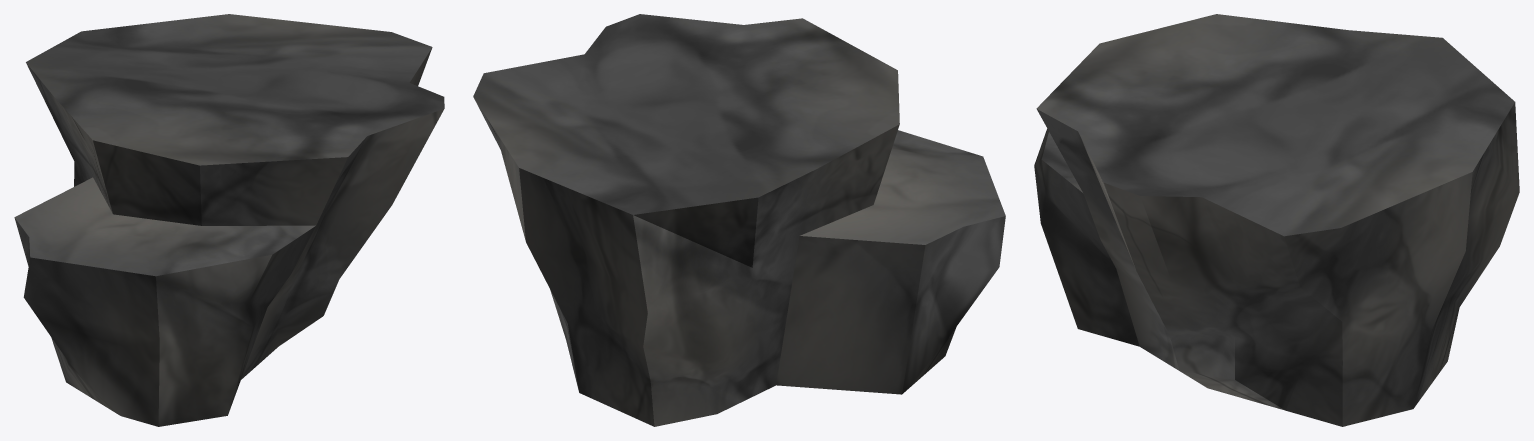
Rendered from M_gake5.fbx.
The picture shows the model from 3 angles, left to right: view 1: azimuth 30°, elevation 25°; view 2: azimuth 150°, elevation 25°; view 3: azimuth 270°, elevation 25°; orthographic projection. The views are drawn at different scales.
Parts seen in each view (by area): view 1: M_gake5; view 2: M_gake5; view 3: M_gake5.
Boxes of the visible parts, <box> form: M_gake5: <box>14,14,444,426</box>; M_gake5: <box>473,14,1005,426</box>; M_gake5: <box>1034,14,1519,426</box>.
Bounding box in the file's own units: 3924 × 2051 × 3276.
Materials: 1 (1 with a texture image).
